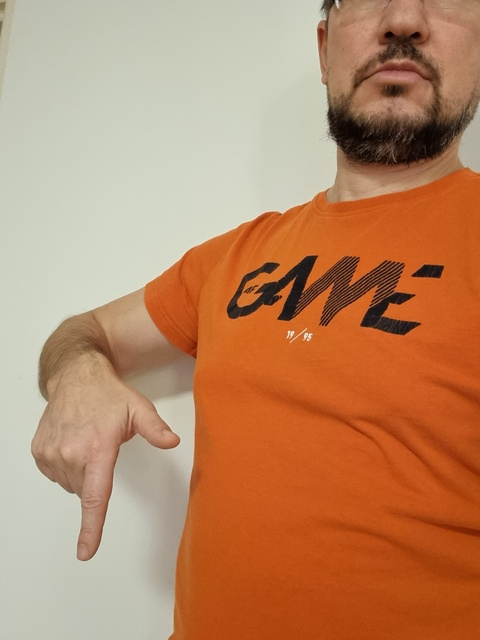GestDown: (31, 391, 178, 560)
